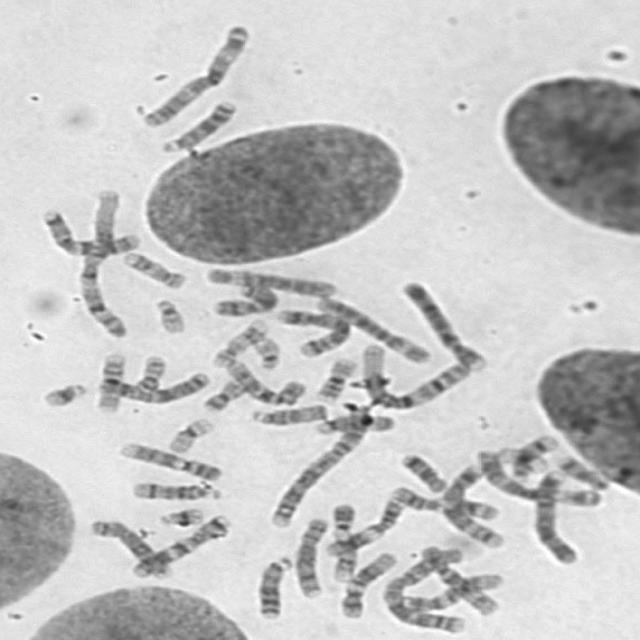A1: (70, 182, 130, 340), (352, 337, 473, 411)
A2: (262, 400, 374, 529), (375, 541, 470, 633)
A3: (133, 17, 253, 128), (469, 442, 606, 508)
B4: (392, 274, 490, 372), (526, 462, 582, 565)
B5: (436, 456, 507, 549), (268, 303, 354, 358)
C10: (216, 352, 309, 407), (397, 567, 506, 612)
C11: (317, 492, 407, 558), (383, 480, 501, 521)
C12: (332, 546, 400, 620), (397, 567, 506, 612)
C6: (309, 290, 434, 364), (197, 261, 338, 298)
C7: (123, 509, 234, 579), (32, 202, 141, 257)
C8: (81, 512, 176, 580), (288, 511, 331, 599)
C9: (112, 436, 226, 483), (322, 496, 360, 584)
D13: (153, 94, 240, 154), (248, 549, 296, 621)
D14: (504, 427, 562, 482), (123, 475, 225, 502)
D15: (243, 396, 330, 426), (316, 412, 400, 442)
E16: (87, 347, 128, 414), (308, 352, 359, 402)
E17: (205, 313, 271, 368), (115, 245, 189, 291)
E18: (546, 447, 611, 491), (392, 447, 449, 494)
F19: (160, 412, 216, 455), (488, 441, 553, 474)
F20: (195, 373, 246, 412), (126, 350, 169, 392)
G21: (34, 376, 88, 409), (150, 501, 207, 528)
G22: (145, 292, 188, 334), (245, 331, 283, 371)
X: (90, 366, 212, 406), (203, 276, 280, 318)
